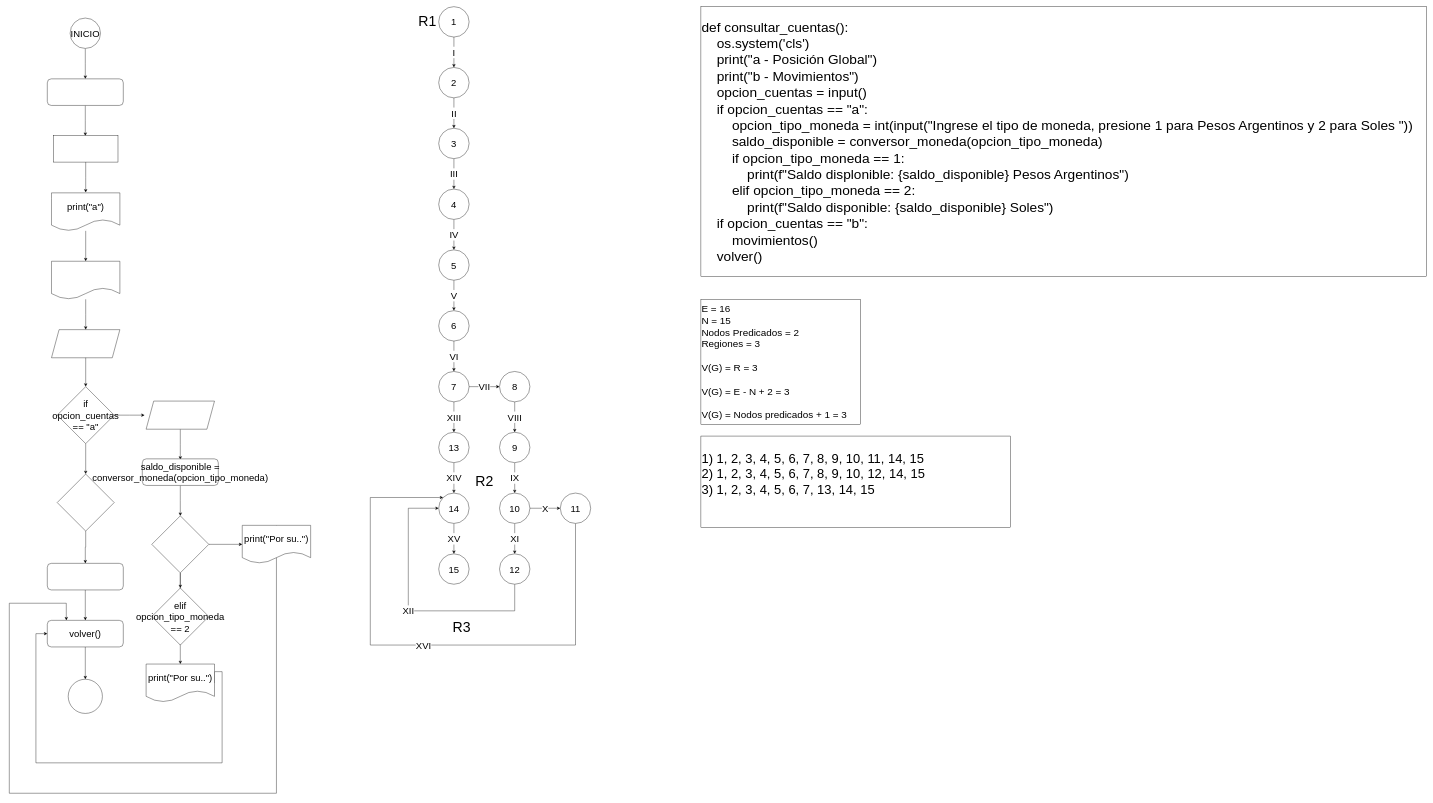
Some shapes in this 1433 by 803 pixel diagram are drawn without their labels. The centre of each missing label's shape, as x and y in pixels:
def consultar_cuentas(): pixel 85 91
FIN: pixel 85 696
if opcion_cuentas == "b": pixel 85 502
if opcion_tipo_moneda == 1:: pixel 180 544
movimientos(): pixel 85 576
opcion_cuentas = input(): pixel 85 343
opcion_tipo_moneda = int(input()): pixel 180 415
os.system('cls'): pixel 85 148
print("b"): pixel 85 280
